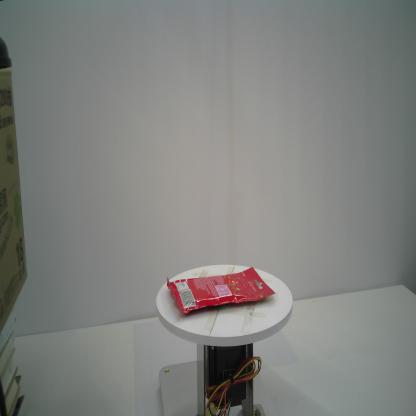Candy: (166, 266, 276, 316)
